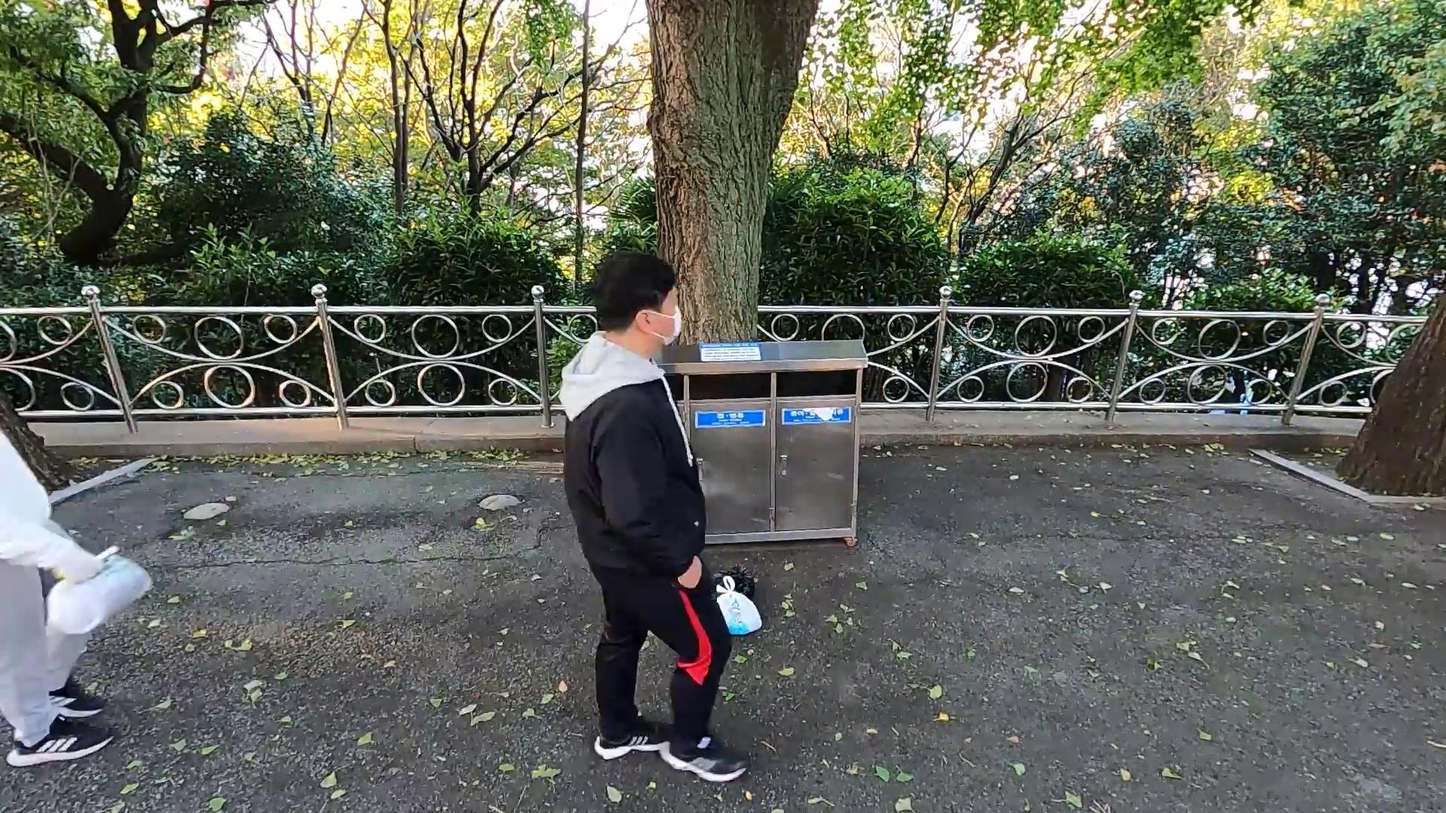person: (548, 245, 765, 791), (0, 417, 157, 779)
trash: (45, 543, 152, 642), (704, 578, 768, 636), (699, 567, 761, 621)
